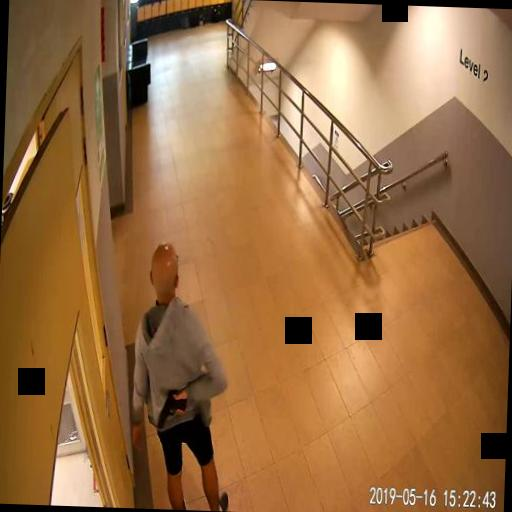Handgun: (156, 388, 184, 426)
